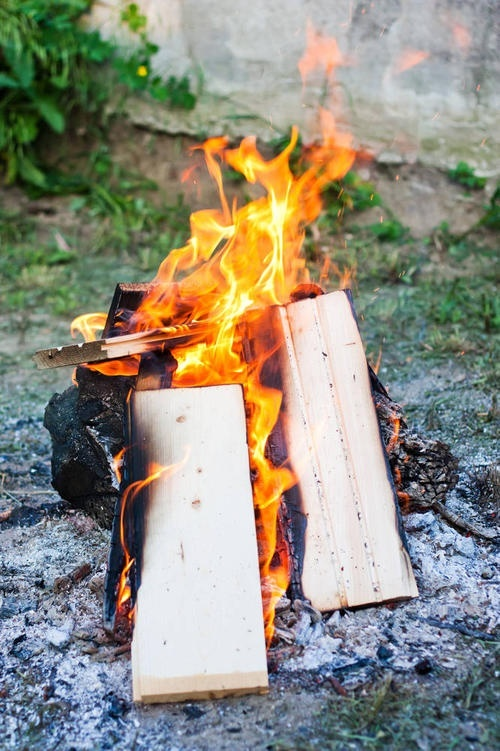fire: (87, 13, 378, 398), (110, 443, 161, 612)
